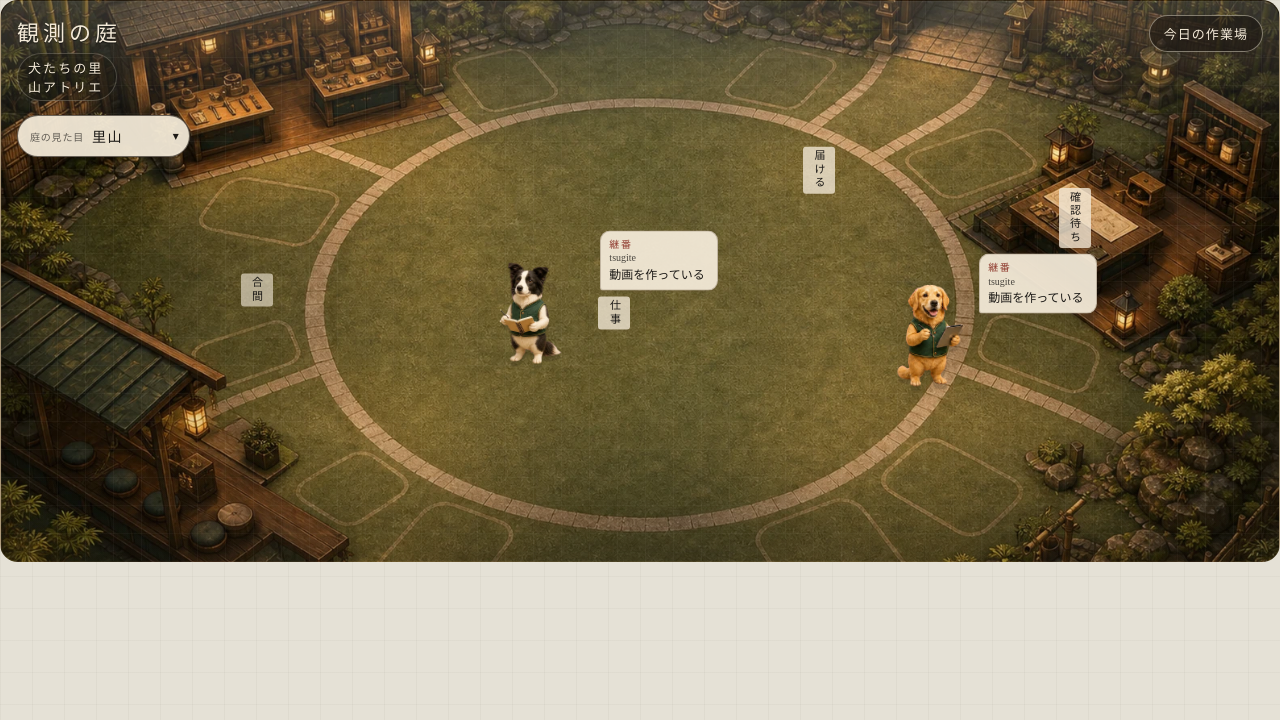
ObserverGarden › walks two live Grok CLIs at one place even when both titles are 作業中
expect the text "継番" is shown 2 times: met, box [609,238,633,249]; [988,262,1011,273]
expect the text "動画を作っている" is shown 2 times: met, box [609,266,709,282]; [988,290,1088,306]
Click the 5th button at [542, 308], box [482,248,602,368]
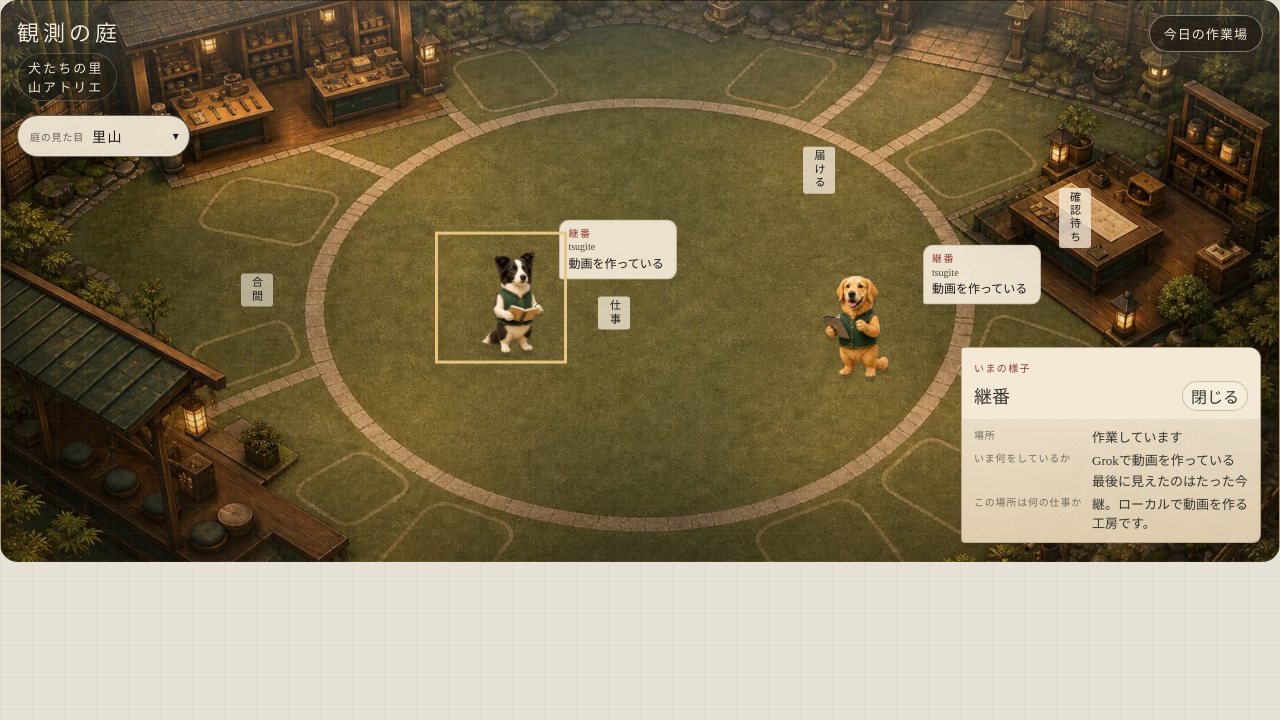
expect the element with test id "garden-inspect" does not show "もう一つの仕事が動いている": met, box [961,347,1261,543]
expect the element with test id "garden-inspect" shows "Grokで動画を作っている": met, box [1092,453,1235,468]
expect the text with class "garden-inspect__title" reads "継番": met, box [974,387,1010,407]
Click the button "閉じる" at [1215, 396], box [1182,381,1248,411]
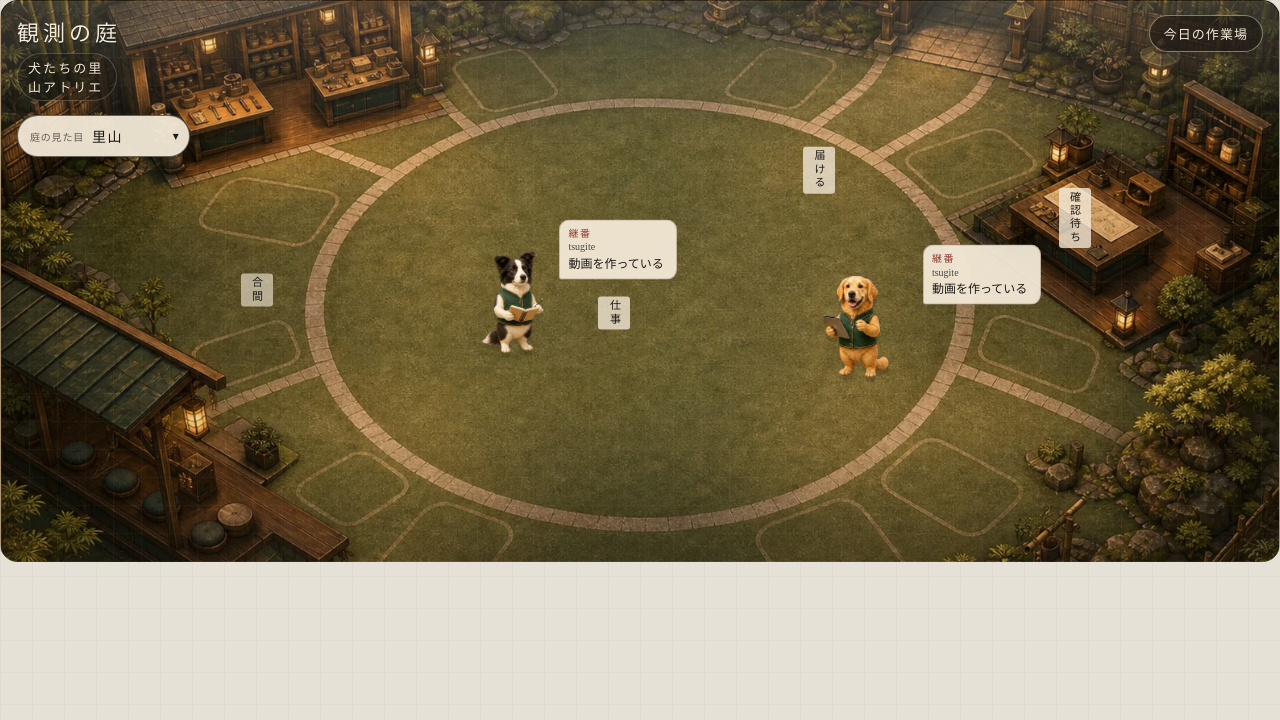
Click the 8th button at [865, 323], box [805,263,925,383]
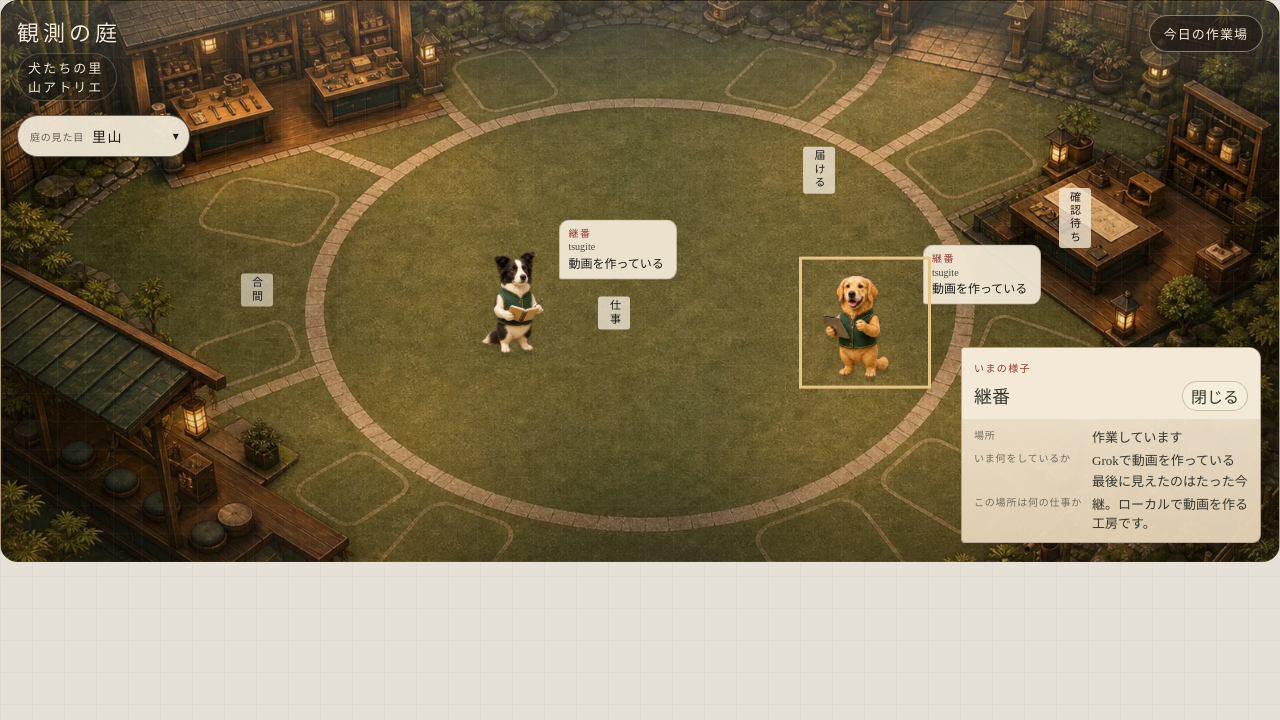
expect the element with test id "garden-inspect" does not show "もう一つの仕事が動いている": met, box [961,347,1261,543]
expect the element with test id "garden-inspect" shows "Grokで動画を作っている": met, box [1092,453,1235,468]
expect the text with class "garden-inspect__title" reads "継番": met, box [974,387,1010,407]
